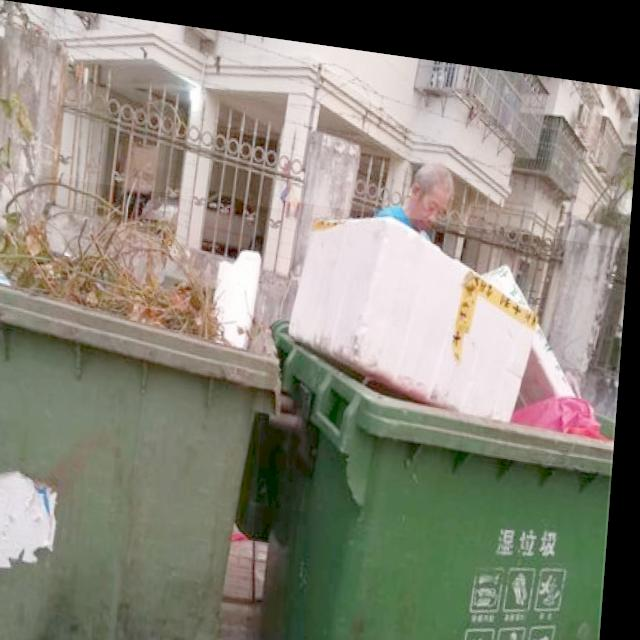overflow: (253, 191, 629, 640), (0, 168, 290, 640)
